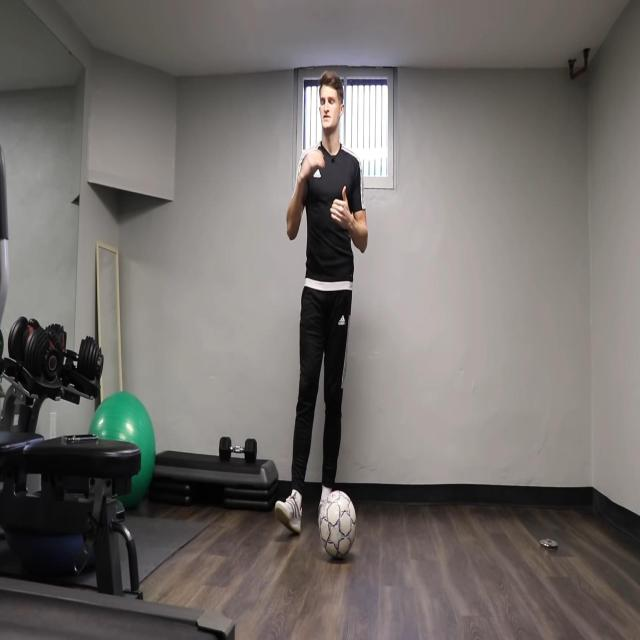Soccer Ball: (318, 490, 357, 560)
